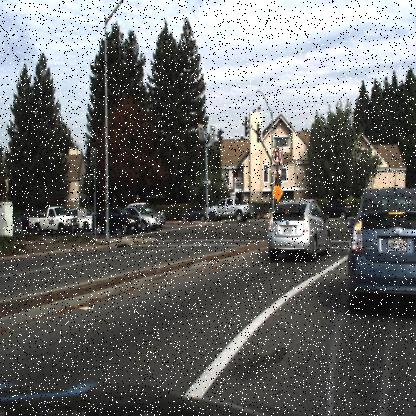car: (346, 180, 415, 310), (265, 195, 331, 259), (90, 203, 140, 235), (26, 204, 80, 233), (91, 206, 140, 234), (28, 207, 79, 233), (207, 196, 251, 222), (322, 196, 352, 222), (132, 205, 160, 230), (178, 203, 210, 224), (322, 198, 352, 219), (138, 210, 159, 230), (78, 211, 93, 234), (156, 210, 166, 226)
